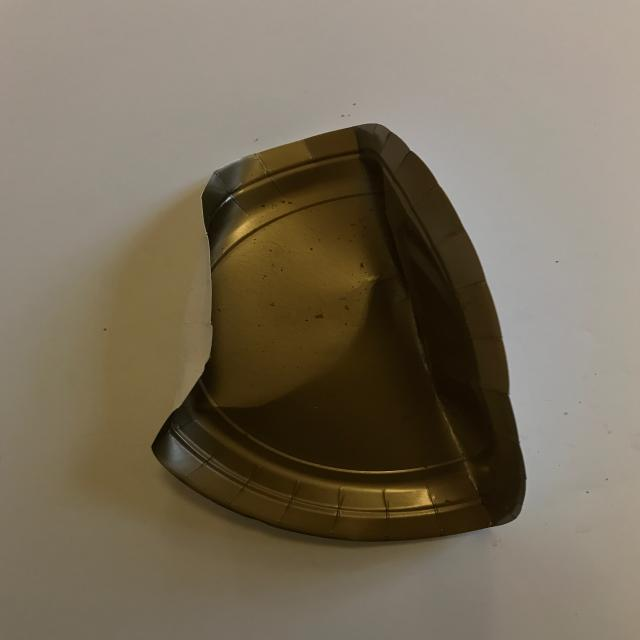paper: (132, 113, 549, 555)
